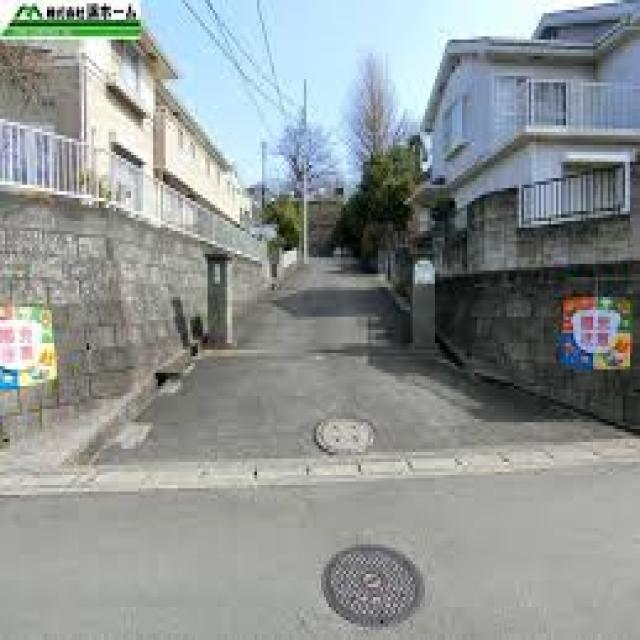manhole: (322, 543, 422, 625), (310, 413, 378, 457)
